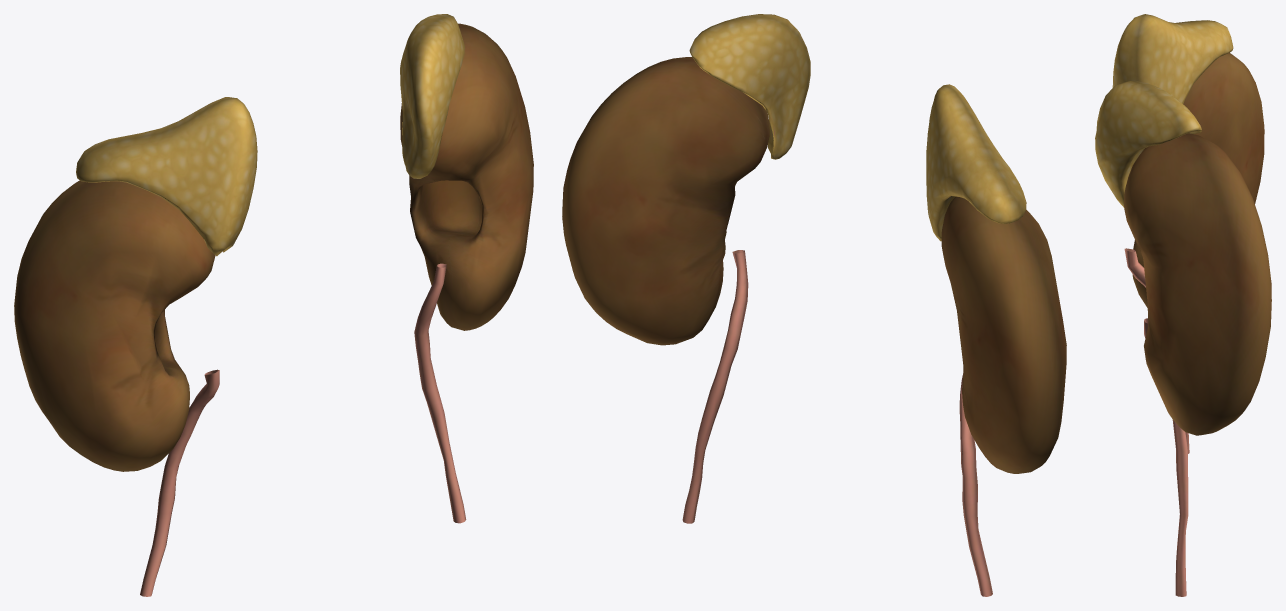
File: adrenals-kidneys.glb
The picture shows the model from 3 angles, left to right: view 1: azimuth 30°, elevation 25°; view 2: azimuth 150°, elevation 25°; view 3: azimuth 270°, elevation 25°; orthographic projection. The views are drawn at different scales.
Visible parts, largest first — view 1: Right_kidney, Left_kidney, Right_adrenal_gland, Left_adrenal_gland, Left_ureter, Right_ureter; view 2: Left_kidney, Right_kidney, Left_adrenal_gland, Right_adrenal_gland, Left_ureter, Right_ureter; view 3: Left_kidney, Right_kidney, Right_adrenal_gland, Left_adrenal_gland, Left_ureter, Right_ureter.
Boxes of the visible parts, x1,y1,x2,y2 form: Right_kidney: [14, 180, 215, 471]; Left_kidney: [400, 23, 533, 330]; Right_adrenal_gland: [76, 97, 257, 256]; Left_adrenal_gland: [400, 14, 464, 178]; Left_ureter: [414, 263, 466, 523]; Right_ureter: [140, 369, 219, 596]; Left_kidney: [562, 57, 769, 345]; Right_kidney: [941, 196, 1066, 473]; Left_adrenal_gland: [689, 14, 810, 159]; Right_adrenal_gland: [926, 84, 1026, 241]; Left_ureter: [682, 250, 748, 523]; Right_ureter: [959, 373, 992, 596]; Left_kidney: [1124, 133, 1271, 435]; Right_kidney: [1132, 52, 1264, 307]; Right_adrenal_gland: [1112, 14, 1233, 103]; Left_adrenal_gland: [1095, 81, 1201, 207]; Left_ureter: [1144, 318, 1188, 596]; Right_ureter: [1124, 248, 1189, 453].
Bounding box in the file's own units: 0.158 × 0.1542 × 0.0506.
6 materials, 6 textured.
